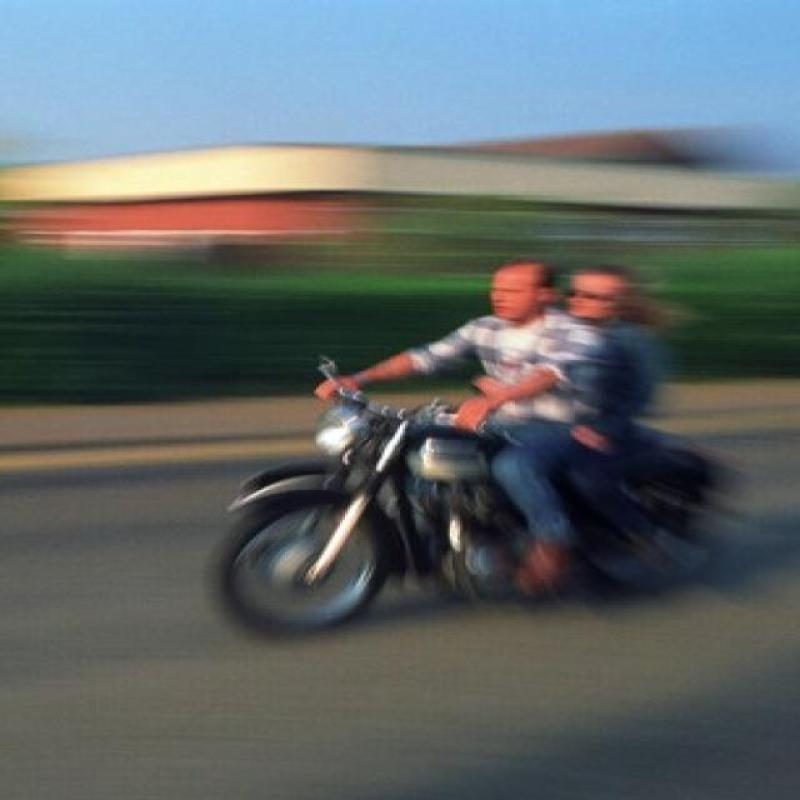nohelmet: (566, 258, 640, 330), (493, 254, 550, 336)
